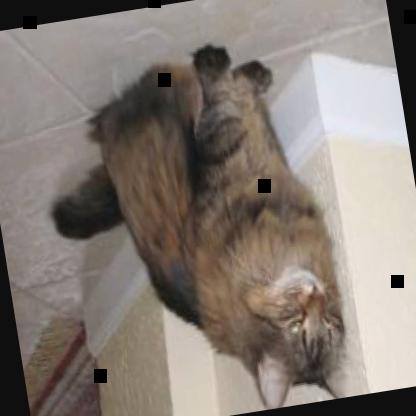cat: (27, 27, 358, 415)
